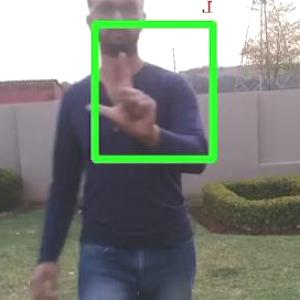land_hand: (78, 40, 162, 136)
